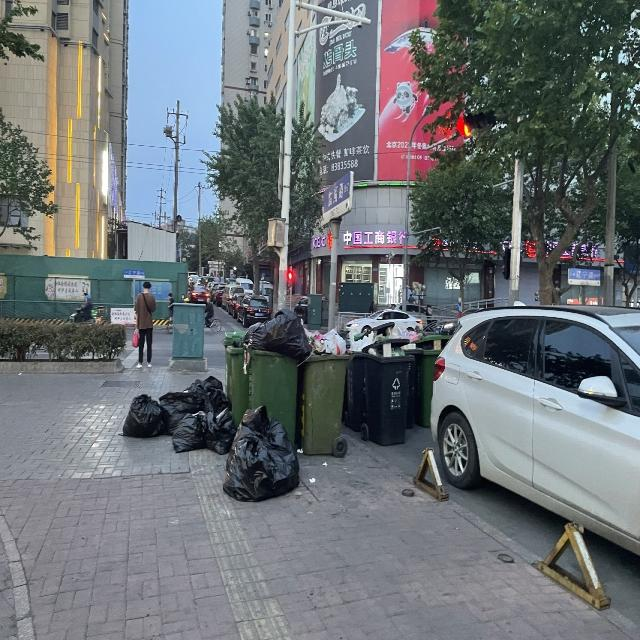garbage: (119, 373, 299, 502)
garbage_bin: (221, 330, 246, 397), (344, 350, 364, 431)
overflow: (242, 309, 310, 446), (303, 329, 348, 455), (362, 336, 411, 444), (415, 333, 451, 424), (400, 343, 422, 426)
